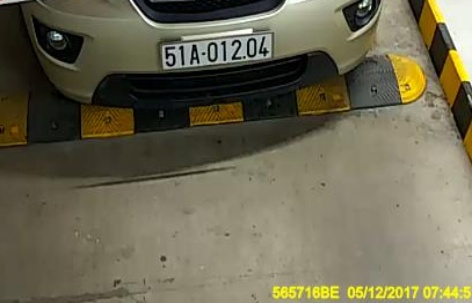plate: (157, 31, 280, 71)
